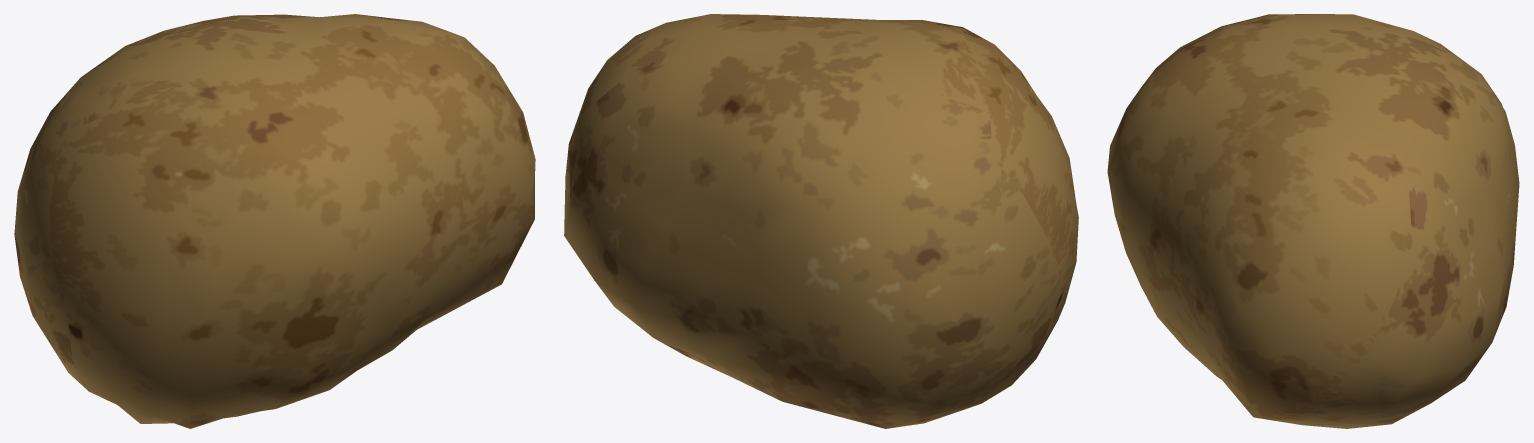
Rendered from Potato.FBX.
The picture shows the model from 3 angles, left to right: view 1: azimuth 30°, elevation 25°; view 2: azimuth 150°, elevation 25°; view 3: azimuth 270°, elevation 25°; orthographic projection.
Parts seen in each view (by area): view 1: Object019; view 2: Object019; view 3: Object019.
Boxes of the visible parts, x1,y1,x2,y2 form: Object019: (14,14,535,428); Object019: (564,14,1078,428); Object019: (1107,14,1519,428).
Bounding box in the file's own units: 138 × 98.05 × 107.
